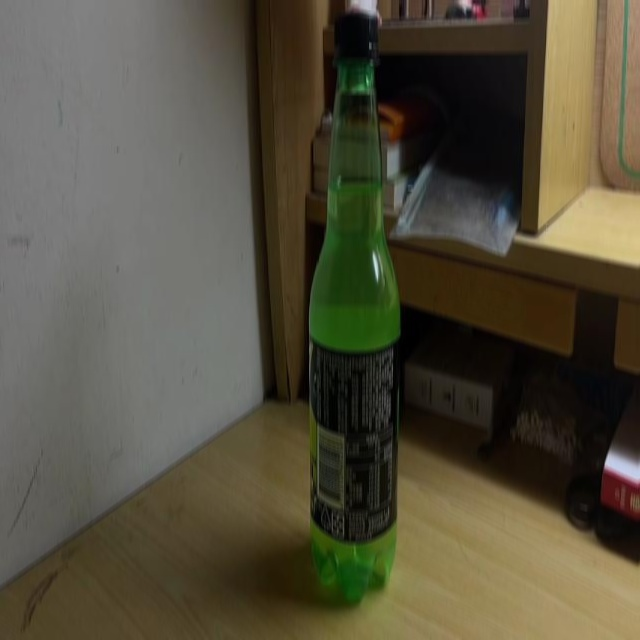Mountain-Dew: (311, 8, 403, 606)
